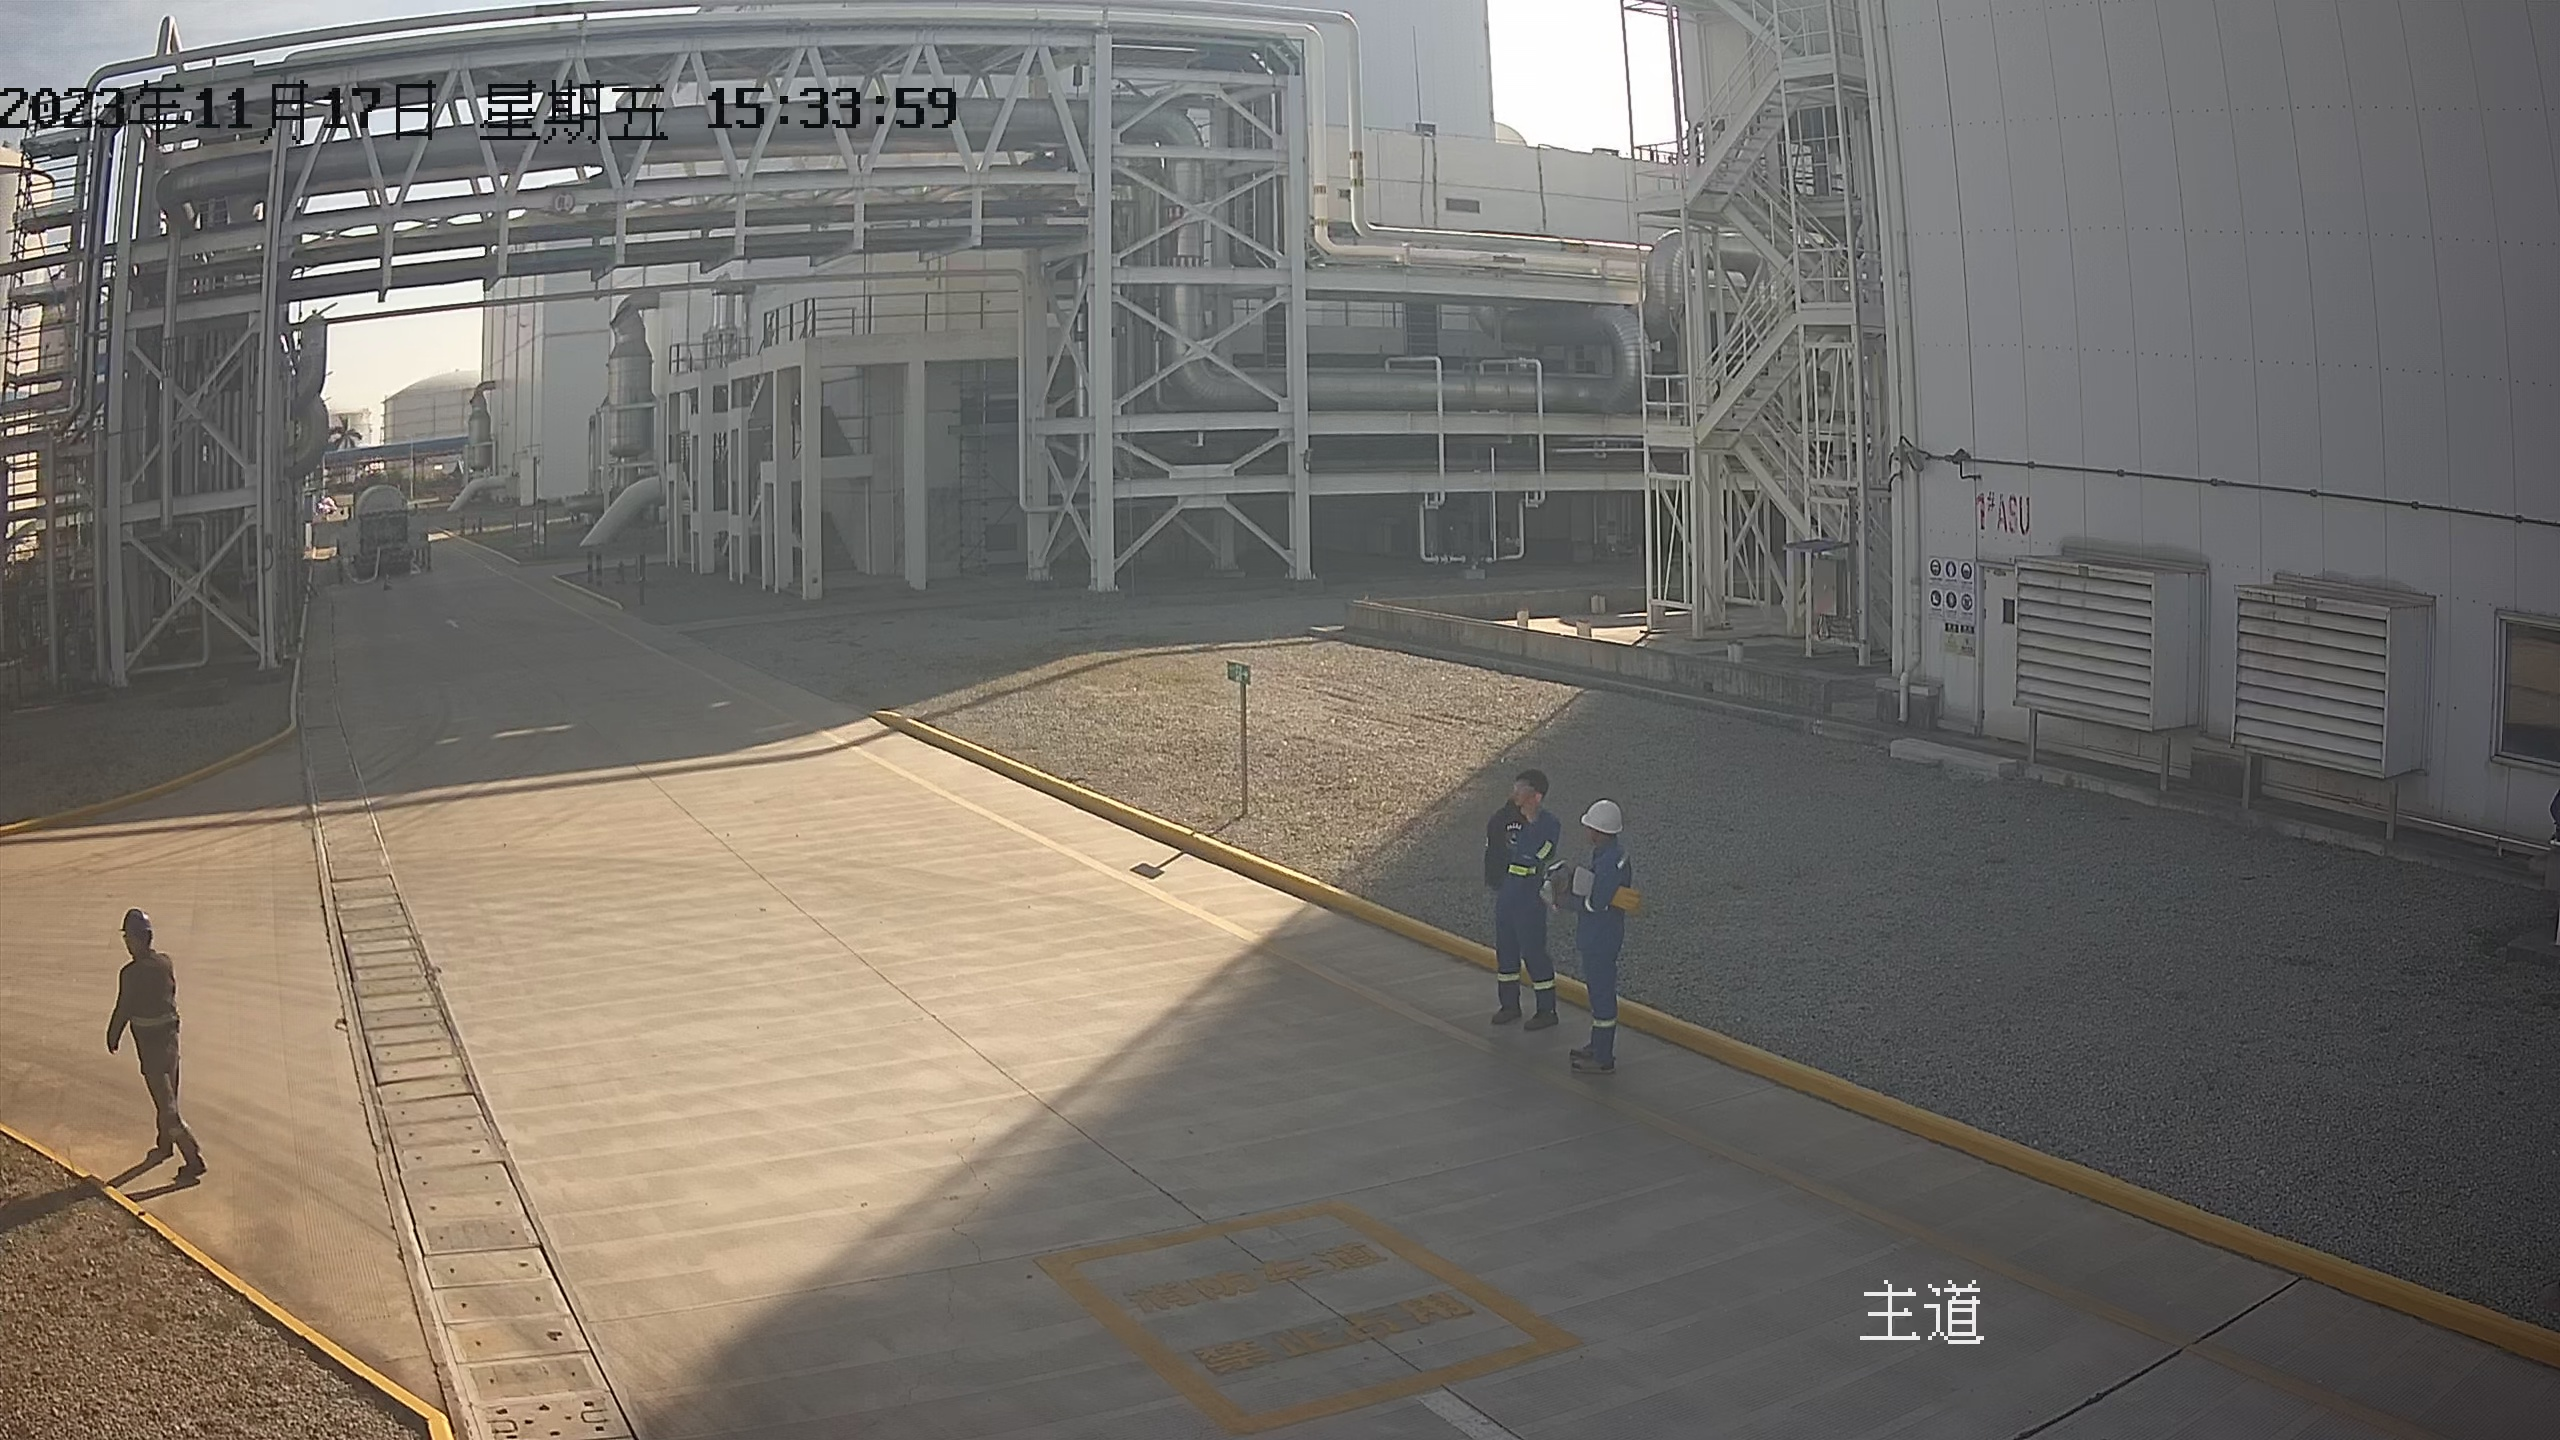Body_without_uniform: (1457, 795, 1565, 1024)
Head_with_Helmet: (101, 899, 169, 959), (1572, 797, 1631, 851)
Head_without_covering: (1491, 765, 1560, 813)
Uniform: (88, 945, 246, 1177), (1553, 843, 1658, 1080)
